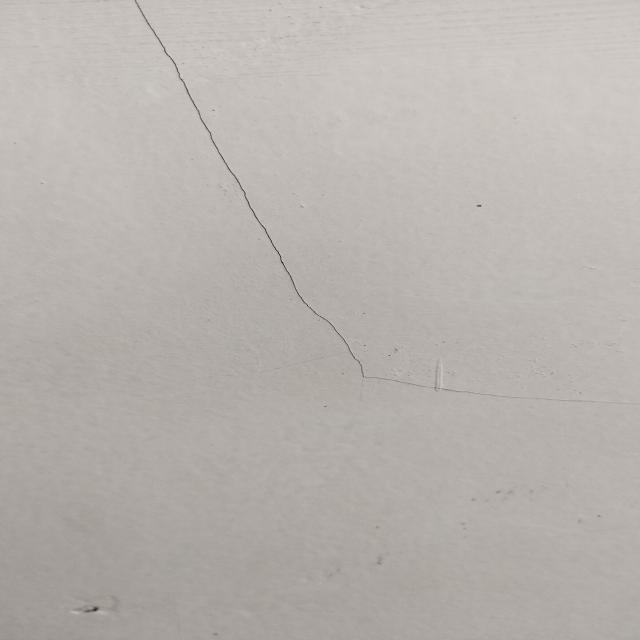Crack: (133, 3, 640, 409)
